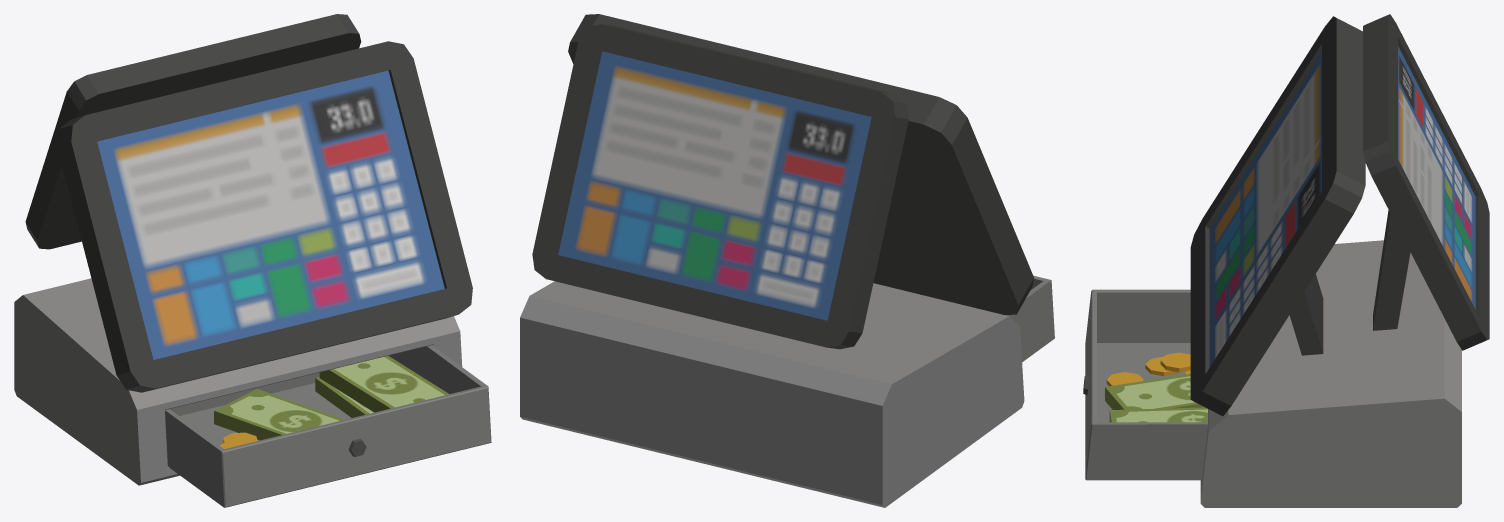
Rendered from SM_Props_Interior_Shop_CashRegister_02.fbx.
3 views of the same model, side by side, from view 1: azimuth 30°, elevation 25°; view 2: azimuth 150°, elevation 25°; view 3: azimuth 270°, elevation 25° (orthographic). The views are drawn at different scales.
Parts seen in each view (by area): view 1: SM_Props_Interior_Shop_CashRegister_02, SM_Props_Interior_Shop_CashRegister_02_Drawer; view 2: SM_Props_Interior_Shop_CashRegister_02, SM_Props_Interior_Shop_CashRegister_02_Drawer; view 3: SM_Props_Interior_Shop_CashRegister_02, SM_Props_Interior_Shop_CashRegister_02_Drawer.
Part boxes in pixels (x1,y1,x2,y2): SM_Props_Interior_Shop_CashRegister_02: (14,14,472,485); SM_Props_Interior_Shop_CashRegister_02_Drawer: (165,345,491,507); SM_Props_Interior_Shop_CashRegister_02: (520,14,1033,507); SM_Props_Interior_Shop_CashRegister_02_Drawer: (1005,275,1054,362); SM_Props_Interior_Shop_CashRegister_02: (1190,14,1489,507); SM_Props_Interior_Shop_CashRegister_02_Drawer: (1083,289,1207,480).
Bounding box in the file's own units: 35 × 32.91 × 34.81.
